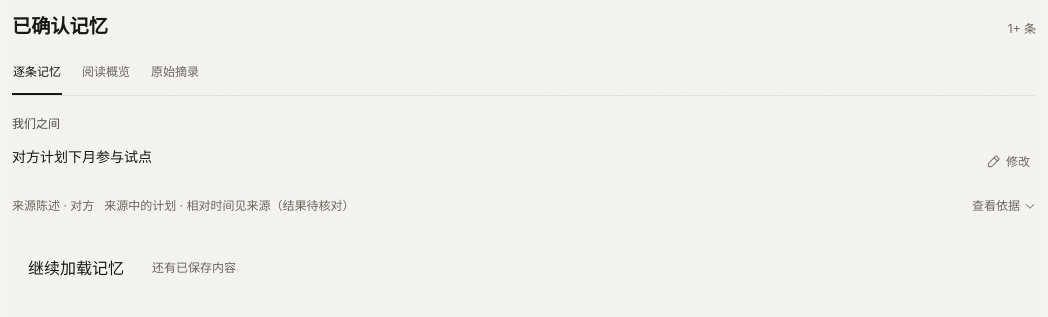
Test: person document interactions › loads remaining data and focuses the first appended item in 阅读概览
What coordinates should you click on to do the following:
click the button "阅读概览"
I would click on:
 (106, 73)
Its box is [81,51,131,95].
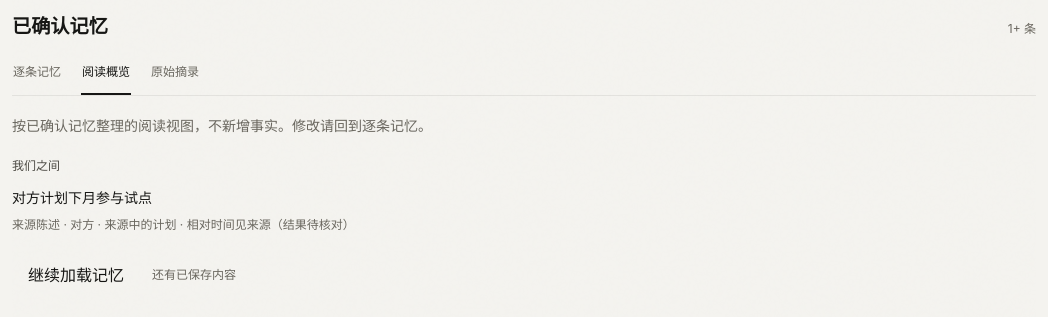
What coordinates should you click on to do the following:
click the button "继续加载记忆"
I would click on:
 (76, 275)
Its box is [12,253,140,297].
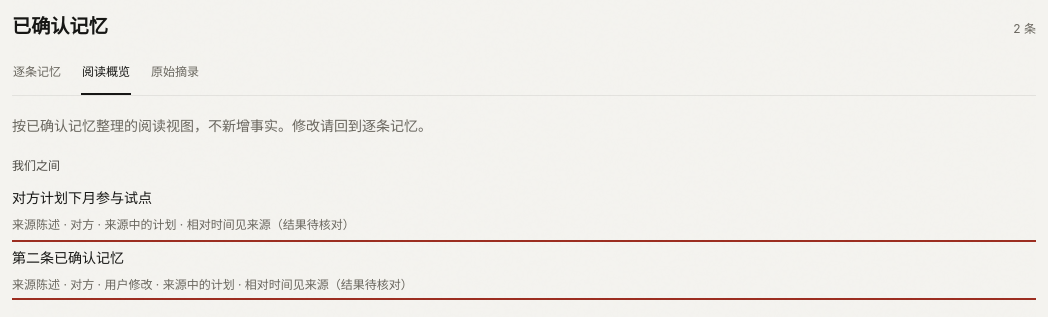
Expected: the text "第二条已确认记忆" is shown, [12,249,124,266]
Expected: the text "2 条" is shown, [1013,20,1036,38]
